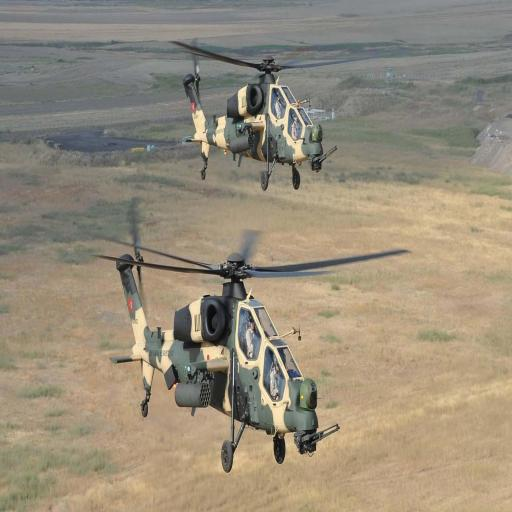helicopter: (96, 150, 359, 445), (159, 31, 380, 210)
